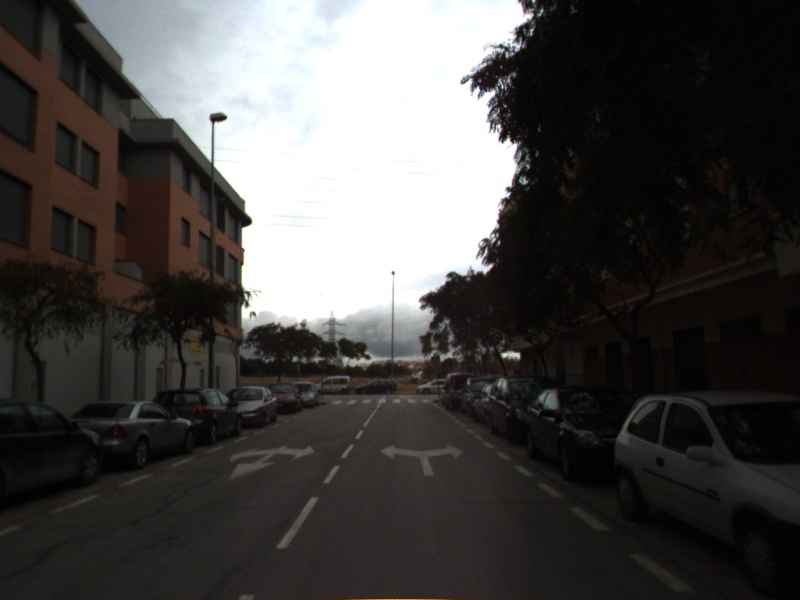LEFT_RIGHT: (378, 442, 467, 478)
